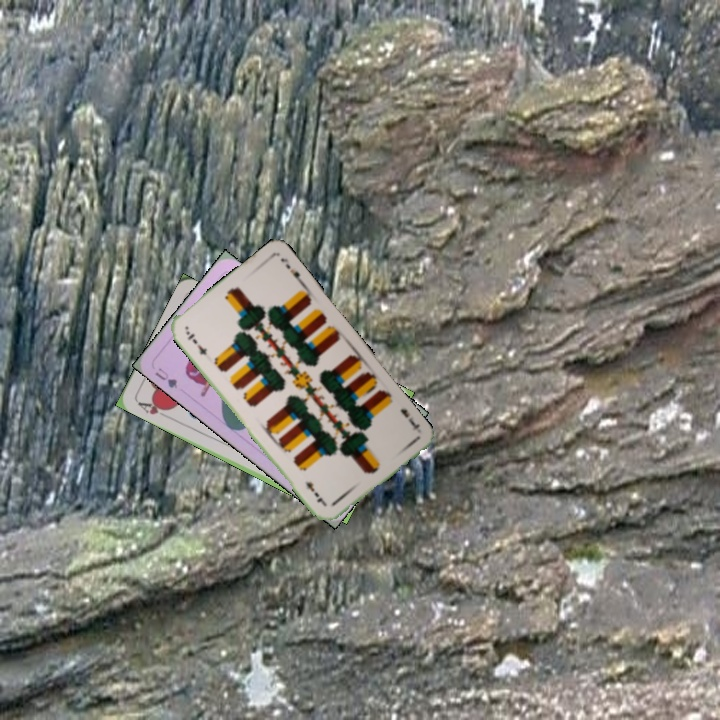E7: (182, 327, 209, 358), (396, 405, 422, 432)
GU: (151, 364, 180, 391)
HA: (133, 397, 172, 421)
